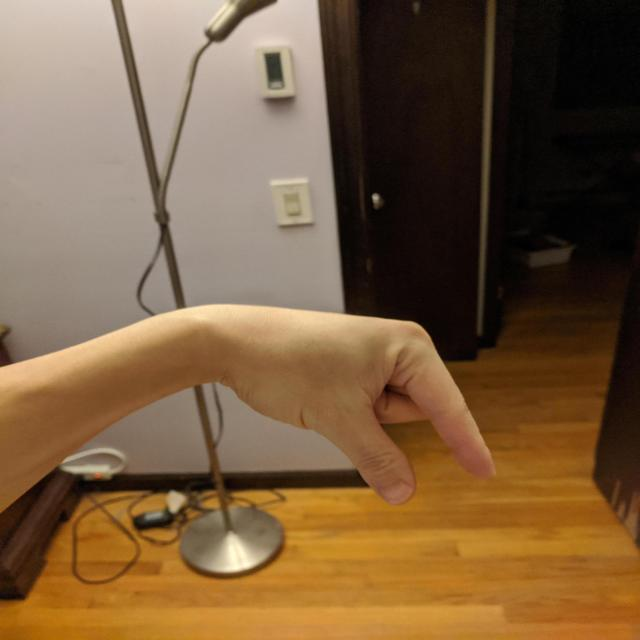Q: (211, 298, 504, 512)
